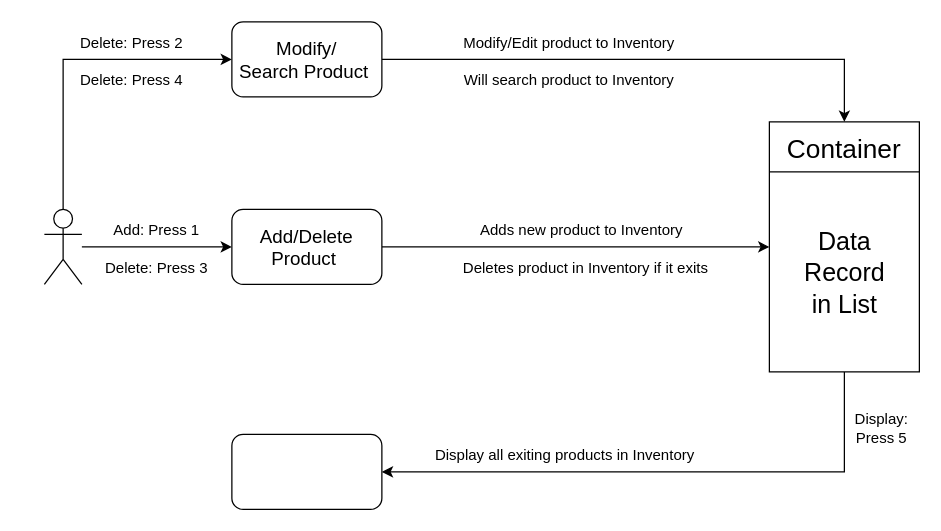
The diagram is 941 pixels wide and 531 high, and some of its shapes have lost their labels. Each missing label, with the centre of its shape:
"Display Product" goes at (x=306, y=471).
"Inventory Manager" goes at (x=62, y=246).
